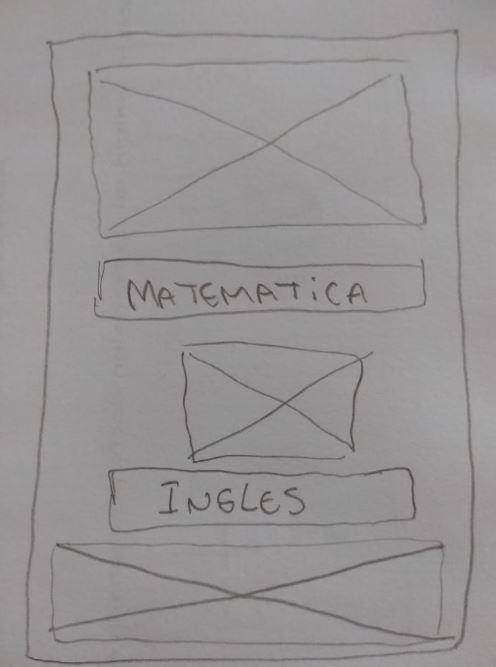Button: (94, 256, 427, 322), (108, 467, 416, 532)
Image: (89, 58, 428, 240), (52, 537, 445, 646), (180, 341, 363, 464)
Screen: (25, 26, 476, 662)
